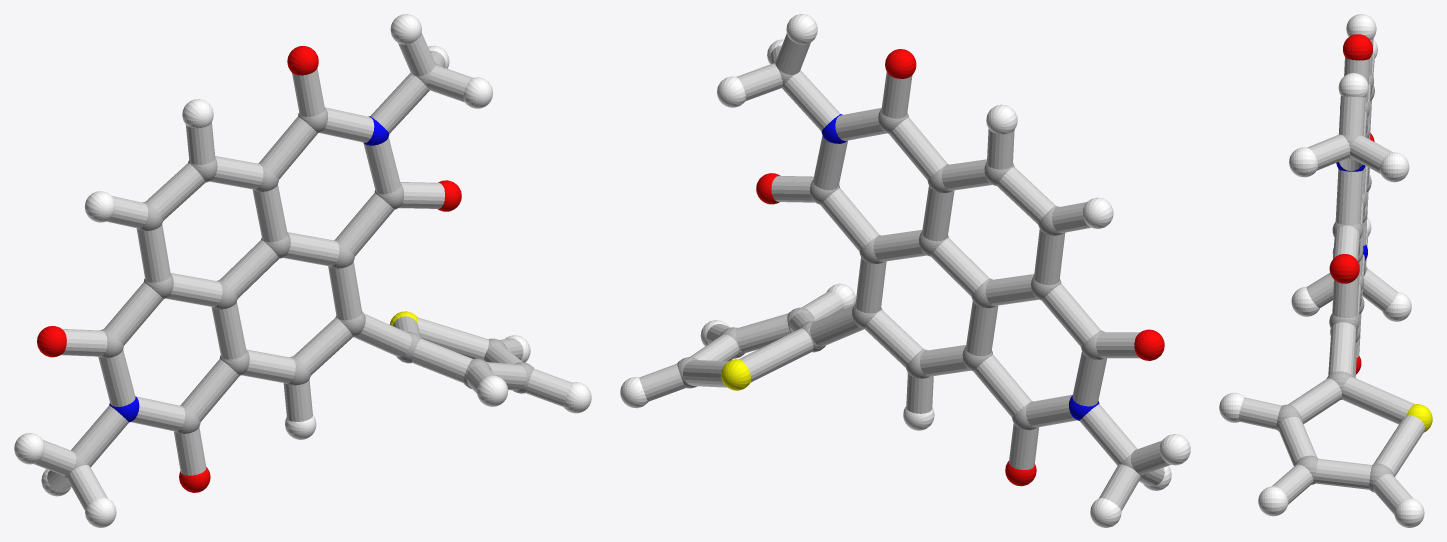
File: Dimethyl_Naphthalene_Dicarboximide_Phi_10_Theta_90_Thiophene.glb
3 views of the same model, side by side, from view 1: azimuth 30°, elevation 25°; view 2: azimuth 150°, elevation 25°; view 3: azimuth 270°, elevation 25° (orthographic). The views are drawn at different scales.
Visible parts, largest first — view 1: grp14119, grp7241, grp1, grp12309, grp11585; view 2: grp14119, grp7241, grp1, grp12309, grp13757, grp11585; view 3: grp14119, grp7241, grp1, grp12309, grp13757.
Boxes of the visible parts, x1=… form: grp14119: x1=34, y1=33, x2=571, y2=510; grp7241: x1=14, y1=14, x2=591, y2=527; grp1: x1=62, y1=62, x2=533, y2=479; grp12309: x1=37, y1=46, x2=461, y2=492; grp11585: x1=109, y1=116, x2=389, y2=422; grp14119: x1=639, y1=33, x2=1170, y2=510; grp7241: x1=620, y1=14, x2=1190, y2=527; grp1: x1=677, y1=61, x2=1145, y2=477; grp12309: x1=756, y1=49, x2=1164, y2=486; grp13757: x1=721, y1=359, x2=751, y2=390; grp11585: x1=821, y1=114, x2=1099, y2=420; grp14119: x1=1239, y1=38, x2=1425, y2=514; grp7241: x1=1219, y1=14, x2=1424, y2=527; grp1: x1=1276, y1=74, x2=1393, y2=492; grp12309: x1=1329, y1=34, x2=1374, y2=374; grp13757: x1=1406, y1=404, x2=1432, y2=432.
Bounding box in the file's own units: 11.86 × 8.83 × 4.23.
